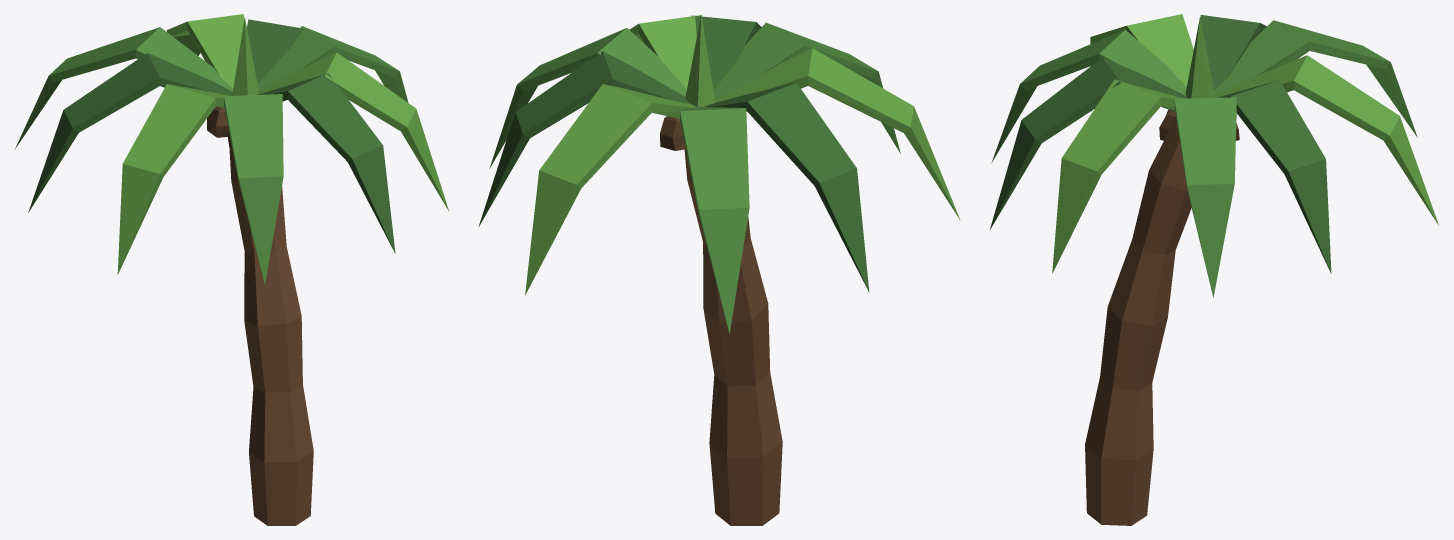
Rendered from tree_palm_2.obj.
3 views of the same model, side by side, from view 1: azimuth 30°, elevation 25°; view 2: azimuth 150°, elevation 25°; view 3: azimuth 270°, elevation 25° (orthographic). The views are drawn at different scales.
Visible parts, largest first — view 1: tree_palm_2; view 2: tree_palm_2; view 3: tree_palm_2.
Part boxes in pixels (box(x1,y1,x2,y2)): tree_palm_2: box(15, 14, 449, 525); tree_palm_2: box(478, 15, 960, 525); tree_palm_2: box(989, 14, 1438, 525).
Size of the model in its own units: 0.8594 by 1.06 by 0.8666.
